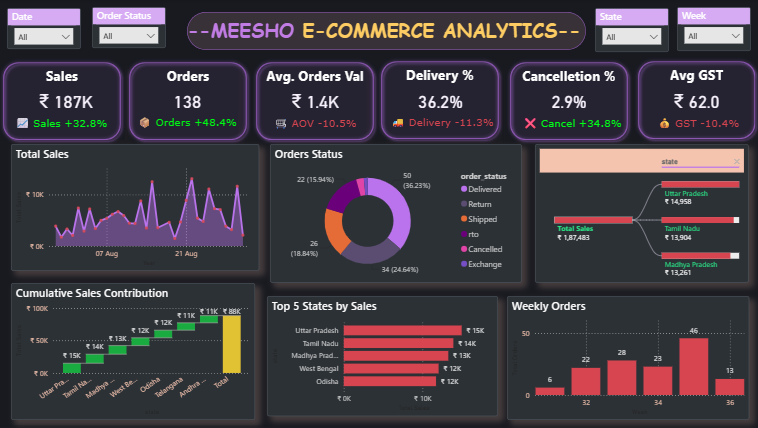

The page's visual inventory and layout, read from the dashboard file:
{"tool":"powerbi","page":{"name":"Page 1","canvas":[1280,720],"ordinal":0},"visuals":[{"type":"cardVisual","title":"💰 Total Sales","fields":{"Data":["all measures.Total Sales"]},"box":[13.4,112.5,198.2,124.3],"z":0},{"type":"cardVisual","title":"📦 Total Orders","fields":{"Data":["all measures.Total Orders"]},"box":[231.8,112.5,169.7,124.3],"z":1000},{"type":"cardVisual","title":"📈 Avg Order Value","fields":{"Data":["all measures.Average Order Value"]},"box":[446.8,112.5,169.7,124.3],"z":2000},{"type":"cardVisual","title":"🚚 Delivery %","fields":{"Data":["all measures.Delivery Rate %"]},"box":[650.1,112.5,183.1,124.3],"z":3000},{"type":"cardVisual","title":"❌ Cancelled %","fields":{"Data":["all measures.Cancellation Rate %"]},"box":[866.8,112.5,181.4,124.3],"z":4000},{"type":"shape","box":[425,99.1,211.7,145],"z":5000},{"type":"shape","box":[635,97.4,211.7,145],"z":6000},{"type":"areaChart","title":"Total Sales ","fields":{"Category":["Date Table.Date.Variation.Date Hierarchy.Year","Date Table.Date.Variation.Date Hierarchy.Quarter","Date Table.Date.Variation.Date Hierarchy.Month","Date Table.Date.Variation.Date Hierarchy.Day"],"Y":["all measures.Total Sales"]},"box":[20.2,243.6,416.6,213.3],"z":7000},{"type":"clusteredColumnChart","title":"Weekly Orders","fields":{"Y":["all measures.Total Orders"],"Category":["Date Table.Week"]},"box":[853.3,498.9,406.5,208.3],"z":8000},{"type":"barChart","title":"Top 5  States by Sales","fields":{"Category":["meesho_file.state"],"Y":["all measures.Total Sales"]},"box":[450.2,498.9,388,201.6],"z":9000},{"type":"donutChart","title":"Orders Status","fields":{"Y":["all measures.Total Orders"],"Category":["meesho_file.order_status"]},"box":[455.2,243.6,423.3,233.5],"z":10000},{"type":"decompositionTreeVisual","fields":{"ExplainBy":["meesho_file.state"],"Analyze":["all measures.Total Sales"]},"box":[900.4,243.6,359.5,233.5],"z":11000},{"type":"cardVisual","title":"🤑Avg GST","fields":{"Data":["all measures.Average GST"]},"box":[1080.1,112.5,183.1,124.3],"z":12000},{"type":"waterfallChart","title":"Cumulative Sales Contribution","fields":{"Category":["meesho_file.state"],"Y":["all measures.Total Sales"]},"box":[20.2,477.1,409.9,230.1],"z":13000},{"type":"slicer","title":"Date","fields":{"Values":["meesho_file.order_date"]},"box":[13.4,15.1,124.3,68.9],"z":14000},{"type":"slicer","title":"Order Status","fields":{"Values":["meesho_file.order_status"]},"box":[156.2,13.4,124.3,68.9],"z":15000},{"type":"slicer","title":"State","fields":{"Values":["meesho_file.state"]},"box":[1001.2,15.1,124.3,73.9],"z":16000},{"type":"textbox","box":[306.6,23.5,678.6,58.8],"z":17000},{"type":"shape","box":[0,99.1,211.7,145],"z":18000},{"type":"shape","box":[851.7,99.1,211.7,145],"z":19000},{"type":"shape","box":[211.7,99.1,211.7,145],"z":20000},{"type":"shape","box":[1066.7,97.4,211,145],"z":21000},{"type":"slicer","title":"Week","fields":{"Values":["Date Table.Week"]},"box":[1138.9,13.4,124.3,73.9],"z":22000},{"type":"shape","box":[656.8,183.1,176.4,45.4],"z":23000},{"type":"shape","box":[878.5,184.8,169.7,45.4],"z":24000},{"type":"shape","box":[1090.2,184.8,169.7,45.4],"z":25000},{"type":"shape","box":[446.8,184.8,169.7,45.4],"z":26000},{"type":"shape","box":[231.8,183.1,169.7,45.4],"z":27000},{"type":"shape","box":[20.2,184.8,169.7,45.4],"z":28000},{"type":"shape","box":[315,21.8,670.2,63.8],"z":29000}]}

Visuals, with their boxes in screenshot pixels (x1, y1, x2, y2), scaled from the page's 1280x720 canvas onto the 758x428 screenshot:
"💰 Total Sales" cardVisual: {"x1": 8, "y1": 67, "x2": 125, "y2": 141}
"📦 Total Orders" cardVisual: {"x1": 137, "y1": 67, "x2": 238, "y2": 141}
"📈 Avg Order Value" cardVisual: {"x1": 265, "y1": 67, "x2": 365, "y2": 141}
"🚚 Delivery %" cardVisual: {"x1": 385, "y1": 67, "x2": 493, "y2": 141}
"❌ Cancelled %" cardVisual: {"x1": 513, "y1": 67, "x2": 621, "y2": 141}
shape: {"x1": 252, "y1": 59, "x2": 377, "y2": 145}
shape: {"x1": 376, "y1": 58, "x2": 501, "y2": 144}
"Total Sales " areaChart: {"x1": 12, "y1": 145, "x2": 259, "y2": 272}
"Weekly Orders" clusteredColumnChart: {"x1": 505, "y1": 297, "x2": 746, "y2": 420}
"Top 5  States by Sales" barChart: {"x1": 267, "y1": 297, "x2": 496, "y2": 416}
"Orders Status" donutChart: {"x1": 270, "y1": 145, "x2": 520, "y2": 284}
decompositionTreeVisual - meesho_file.state x all measures.Total Sales: {"x1": 533, "y1": 145, "x2": 746, "y2": 284}
"🤑Avg GST" cardVisual: {"x1": 640, "y1": 67, "x2": 748, "y2": 141}
"Cumulative Sales Contribution" waterfallChart: {"x1": 12, "y1": 284, "x2": 255, "y2": 420}
"Date" slicer: {"x1": 8, "y1": 9, "x2": 82, "y2": 50}
"Order Status" slicer: {"x1": 92, "y1": 8, "x2": 166, "y2": 49}
"State" slicer: {"x1": 593, "y1": 9, "x2": 667, "y2": 53}
textbox: {"x1": 182, "y1": 14, "x2": 583, "y2": 49}
shape: {"x1": 0, "y1": 59, "x2": 125, "y2": 145}
shape: {"x1": 504, "y1": 59, "x2": 630, "y2": 145}
shape: {"x1": 125, "y1": 59, "x2": 251, "y2": 145}
shape: {"x1": 632, "y1": 58, "x2": 757, "y2": 144}
"Week" slicer: {"x1": 674, "y1": 8, "x2": 748, "y2": 52}
shape: {"x1": 389, "y1": 109, "x2": 493, "y2": 136}
shape: {"x1": 520, "y1": 110, "x2": 621, "y2": 137}
shape: {"x1": 646, "y1": 110, "x2": 746, "y2": 137}
shape: {"x1": 265, "y1": 110, "x2": 365, "y2": 137}
shape: {"x1": 137, "y1": 109, "x2": 238, "y2": 136}
shape: {"x1": 12, "y1": 110, "x2": 112, "y2": 137}
shape: {"x1": 187, "y1": 13, "x2": 583, "y2": 51}
